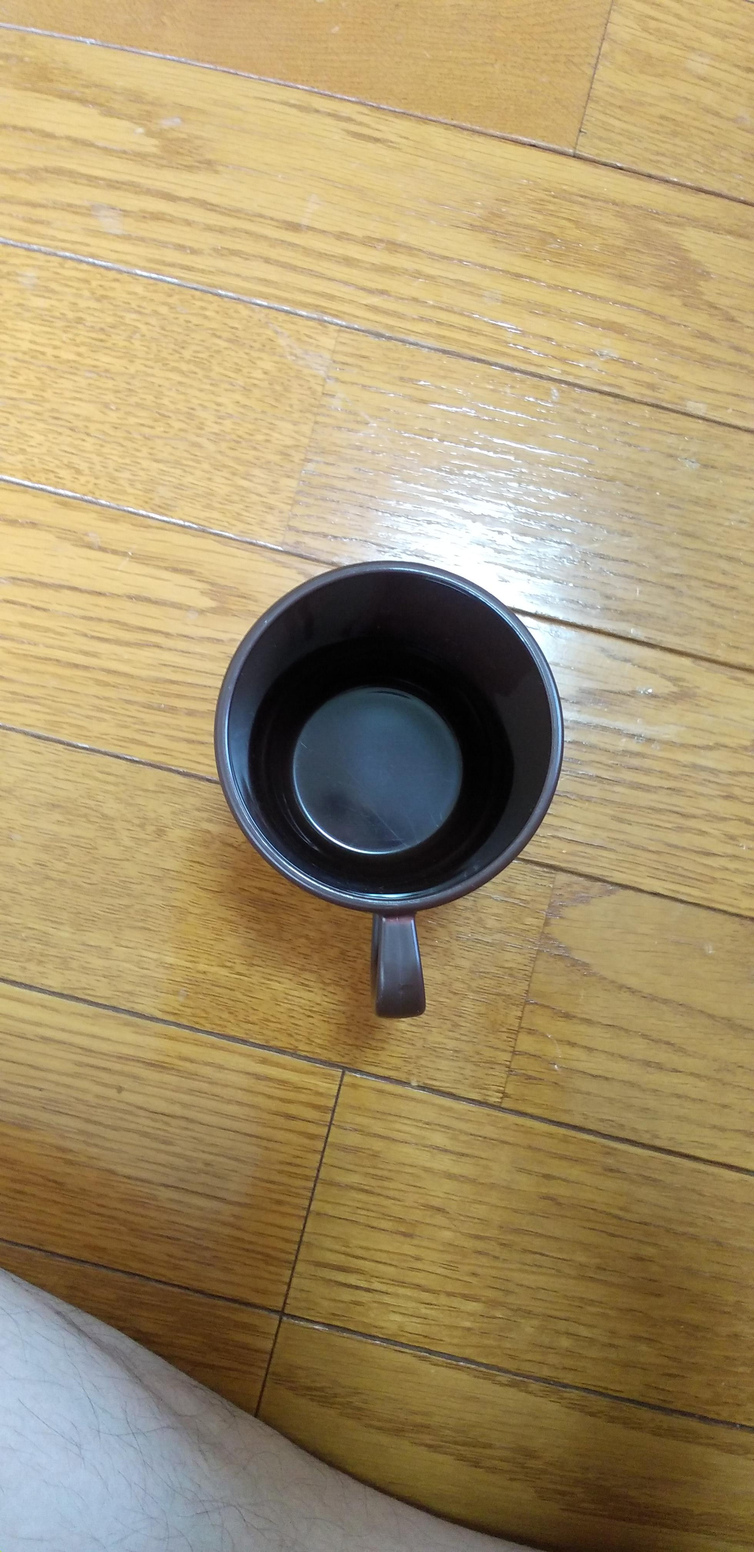mug-real100-3d100: (214, 561, 563, 1019)
